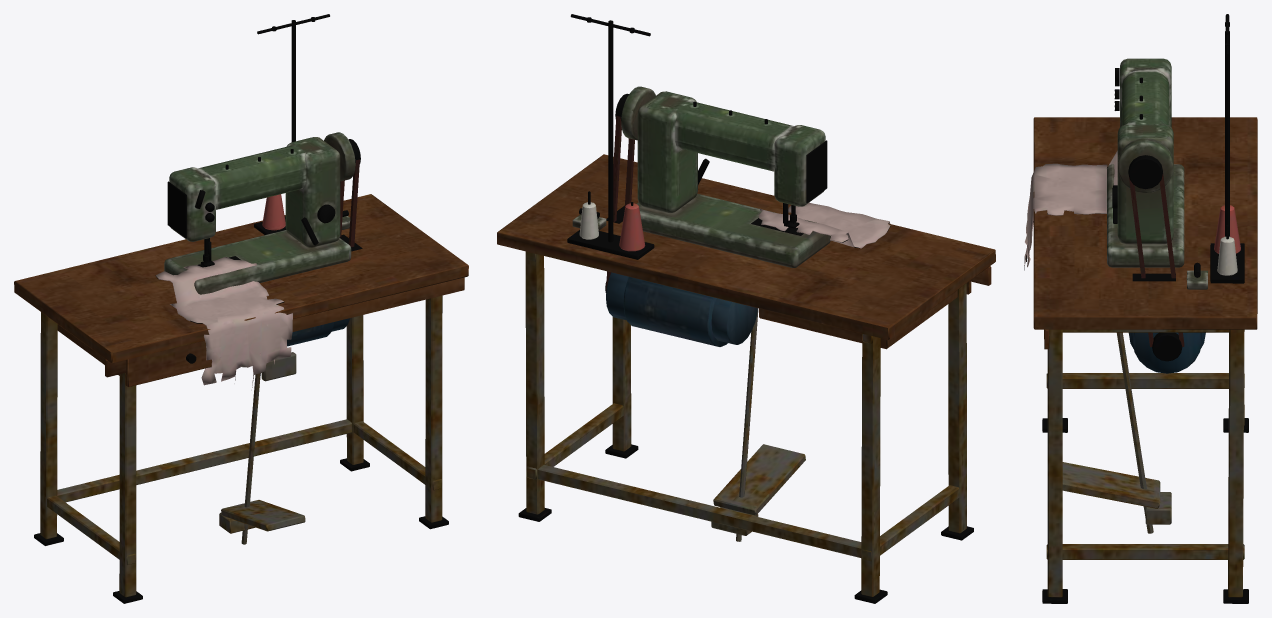
The model's file is sewing_machine.glb.
3 renders of one model, left to right at view 1: azimuth 30°, elevation 25°; view 2: azimuth 150°, elevation 25°; view 3: azimuth 270°, elevation 25°, orthographic. The views are drawn at different scales.
Parts seen in each view (by area): view 1: sewing_machine; view 2: sewing_machine; view 3: sewing_machine.
Boxes of the visible parts, x1,y1,x2,y2 form: sewing_machine: [14, 14, 468, 603]; sewing_machine: [497, 14, 995, 603]; sewing_machine: [1024, 14, 1257, 603].
Bounding box in the file's own units: 1.1 × 1.4 × 0.5418.
Materials: 1 (1 with a texture image).
